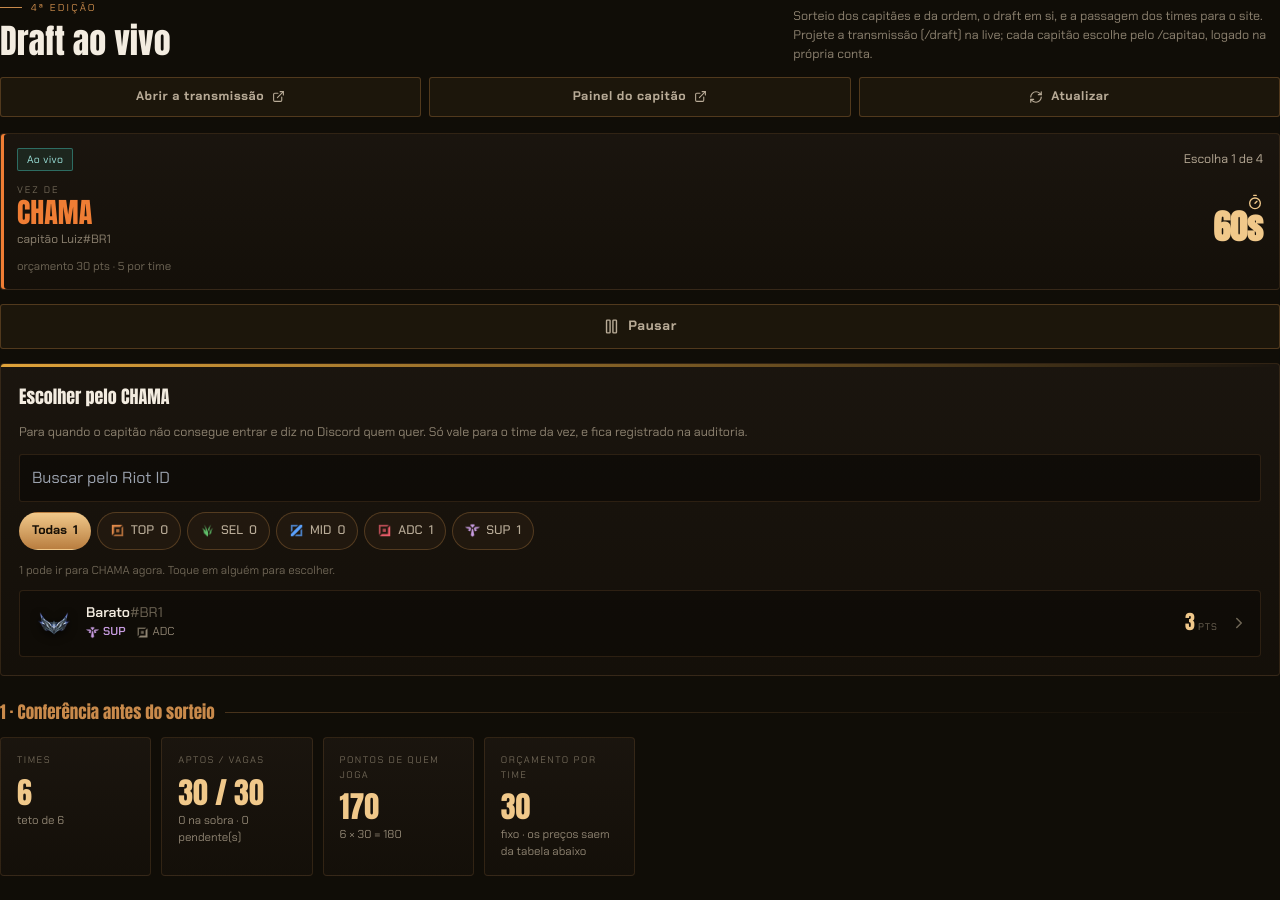
Test: Draft ao vivo no celular › se a vez virar com a folha aberta, ela avisa e não deixa confirmar
Click the button with aria-label "Escolher Barato#BR1 para CHAMA".
click(108, 612)  # box [86,603,1173,621]
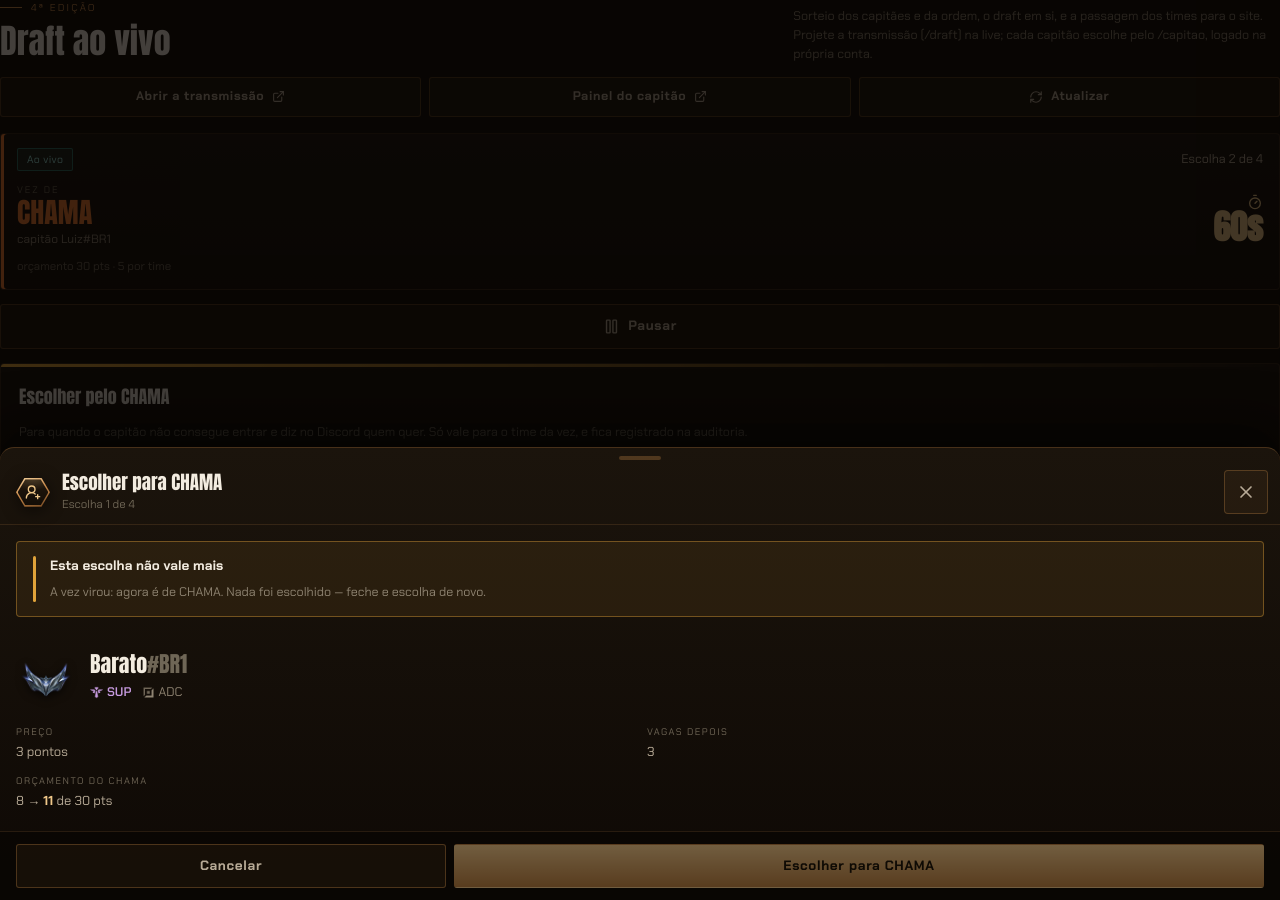
Expected: the text "A vez virou" is shown, [50,584,486,600]
Expected: the button "Escolher para CHAMA" is disabled, [454,844,1264,888]
